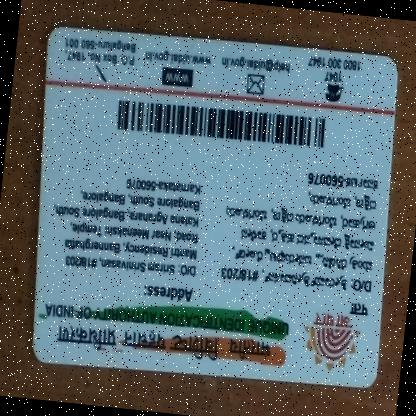aadhaar_card: (7, 12, 414, 402)
